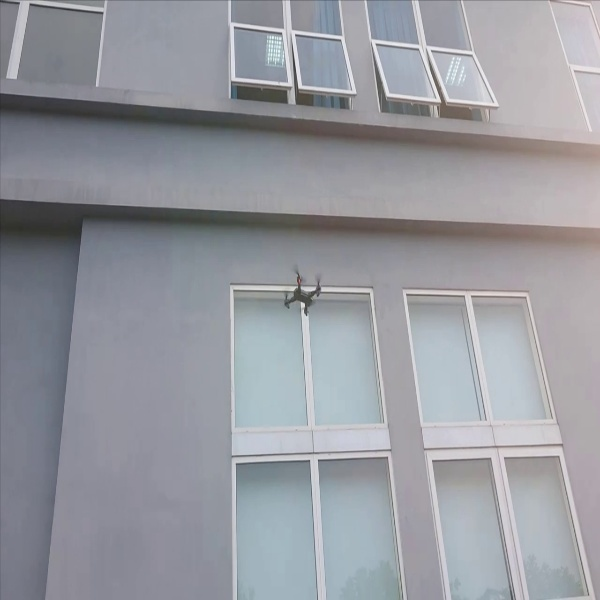drone: (274, 267, 329, 317)
